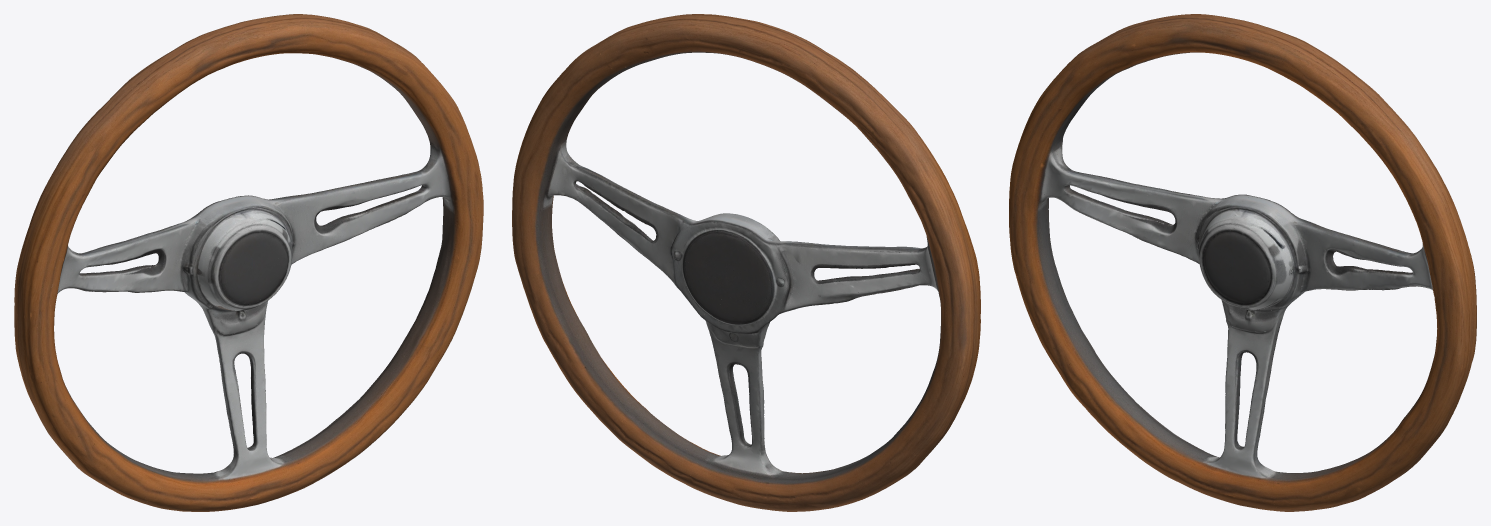
Rendered from volante-display.glb.
The picture shows the model from 3 angles, left to right: view 1: azimuth 30°, elevation 25°; view 2: azimuth 150°, elevation 25°; view 3: azimuth 330°, elevation 25°; orthographic projection.
Parts seen in each view (by area): view 1: volante-display; view 2: volante-display; view 3: volante-display.
Boxes of the visible parts, x1,y1,x2,y2 form: volante-display: [14, 14, 483, 511]; volante-display: [512, 14, 980, 511]; volante-display: [1009, 14, 1476, 511].
Bounding box in the file's own units: 2 × 2 × 0.2279.
Materials: 1 (1 with a texture image).
